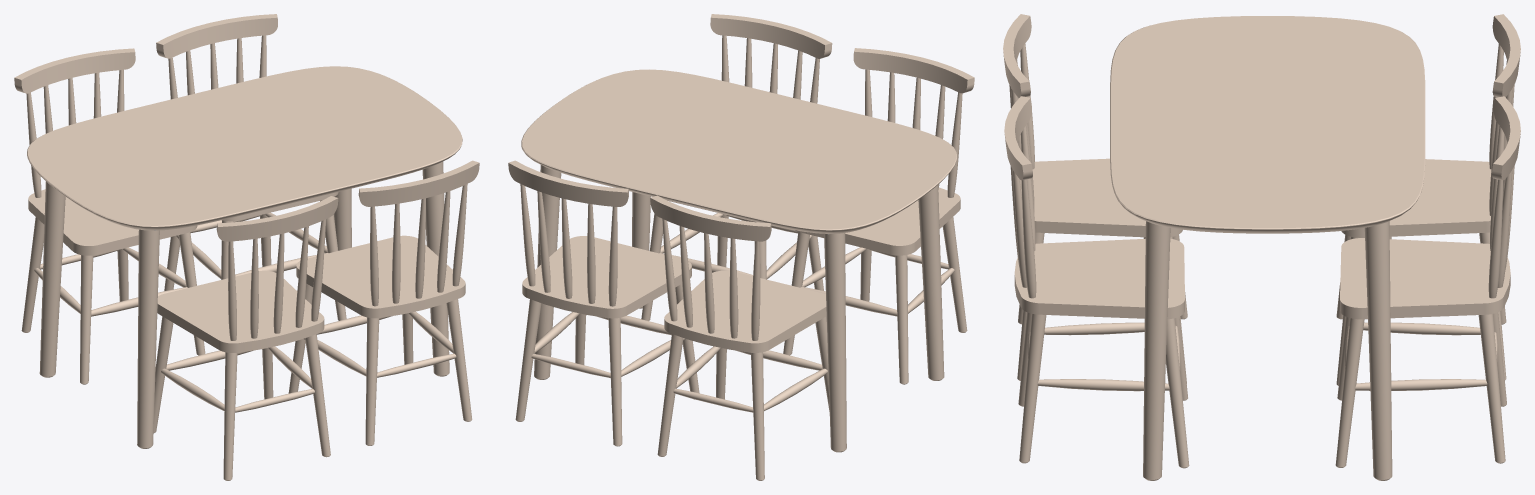
The model's file is 573_ダイニングテーブルセット4人掛け.glb.
The picture shows the model from 3 angles, left to right: view 1: azimuth 30°, elevation 25°; view 2: azimuth 150°, elevation 25°; view 3: azimuth 270°, elevation 25°; orthographic projection. The views are drawn at different scales.
Parts seen in each view (by area): view 1: Body, chair3, chair4, chair1, chair2; view 2: Body, chair1, chair2, chair3, chair4; view 3: Body, chair2, chair4, chair3, chair1.
Part boxes in pixels (left/top/right/bottom): Body: left=27, top=66, right=462, bottom=448; chair3: left=153, top=196, right=338, bottom=480; chair4: left=288, top=160, right=479, bottom=445; chair1: left=14, top=48, right=205, bottom=384; chair2: left=156, top=14, right=346, bottom=320; Body: left=521, top=69, right=956, bottom=452; chair1: left=650, top=195, right=829, bottom=480; chair2: left=508, top=160, right=699, bottom=446; chair3: left=783, top=48, right=974, bottom=384; chair4: left=641, top=14, right=832, bottom=320; Body: left=1110, top=16, right=1425, bottom=480; chair2: left=1335, top=96, right=1520, bottom=467; chair4: left=1004, top=96, right=1189, bottom=468; chair3: left=1003, top=14, right=1187, bottom=384; chair1: left=1336, top=14, right=1520, bottom=385.
Bounding box in the file's own units: 1.2 × 0.795 × 1.23.
